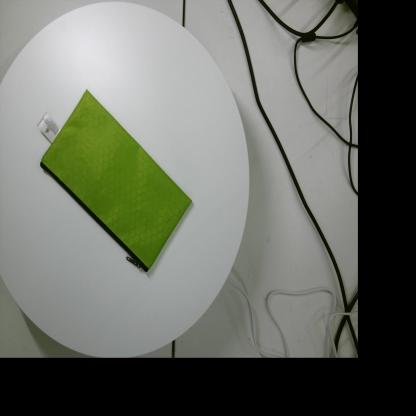Stationery: (37, 89, 192, 272)
